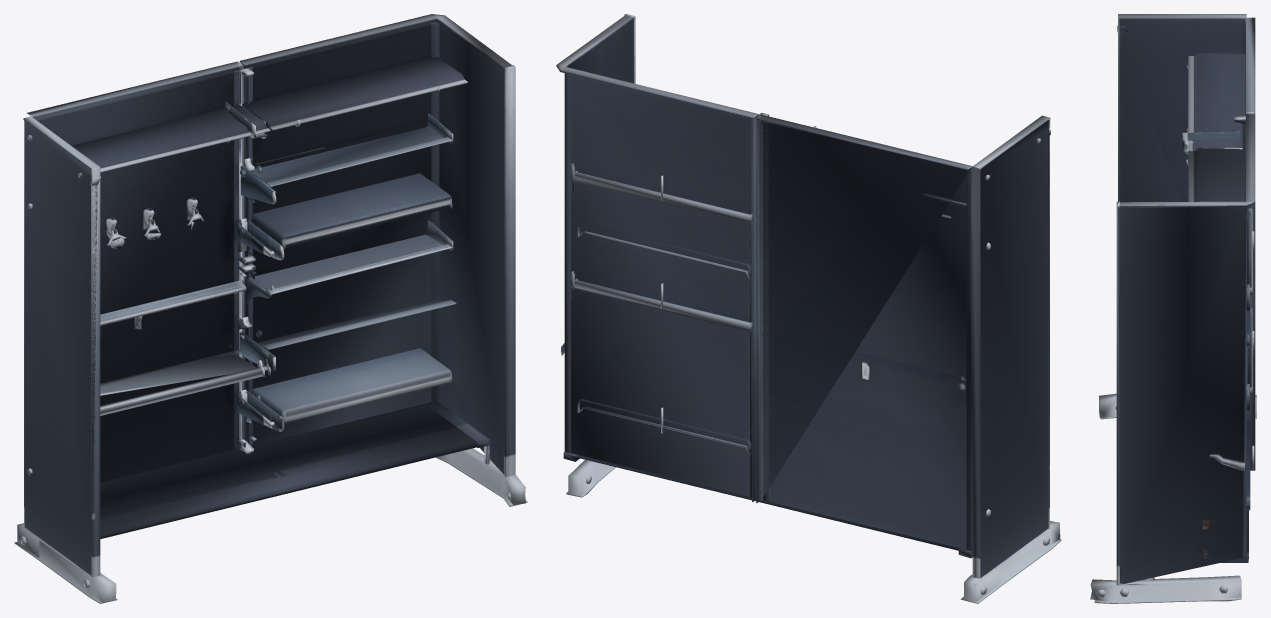
Rendered from storage Rack.glb.
The picture shows the model from 3 angles, left to right: view 1: azimuth 30°, elevation 25°; view 2: azimuth 150°, elevation 25°; view 3: azimuth 270°, elevation 25°; orthographic projection. The views are drawn at different scales.
Visible parts, largest first — view 1: tripo_node_827e3618-fe7c-42ef-b446-4b63ccc7a78b; view 2: tripo_node_827e3618-fe7c-42ef-b446-4b63ccc7a78b; view 3: tripo_node_827e3618-fe7c-42ef-b446-4b63ccc7a78b.
Boxes of the visible parts, x1,y1,x2,y2 form: tripo_node_827e3618-fe7c-42ef-b446-4b63ccc7a78b: (14, 14, 527, 603); tripo_node_827e3618-fe7c-42ef-b446-4b63ccc7a78b: (556, 14, 1061, 603); tripo_node_827e3618-fe7c-42ef-b446-4b63ccc7a78b: (1090, 14, 1256, 603).
Bounding box in the file's own units: 0.9995 × 0.9565 × 0.3628.
1 material, 1 textured.
